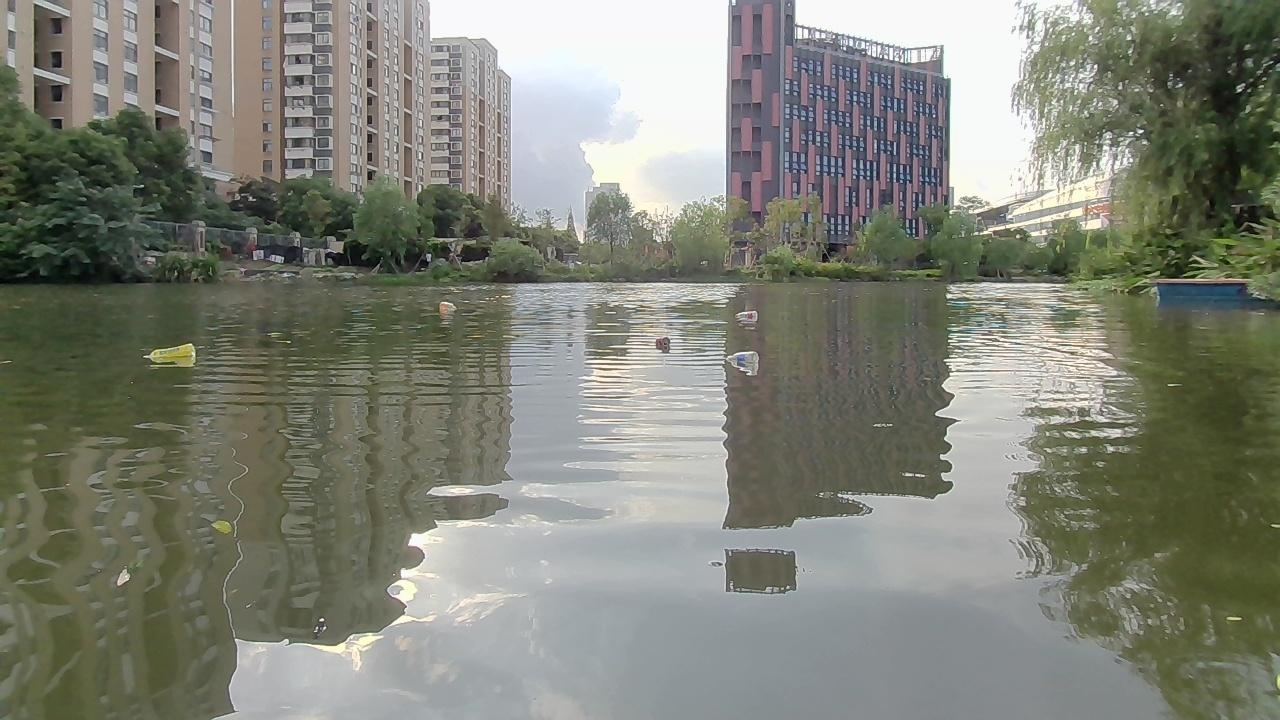bottle: (140, 341, 201, 366), (721, 348, 759, 369), (436, 296, 458, 311), (646, 334, 671, 347), (735, 307, 755, 319)
